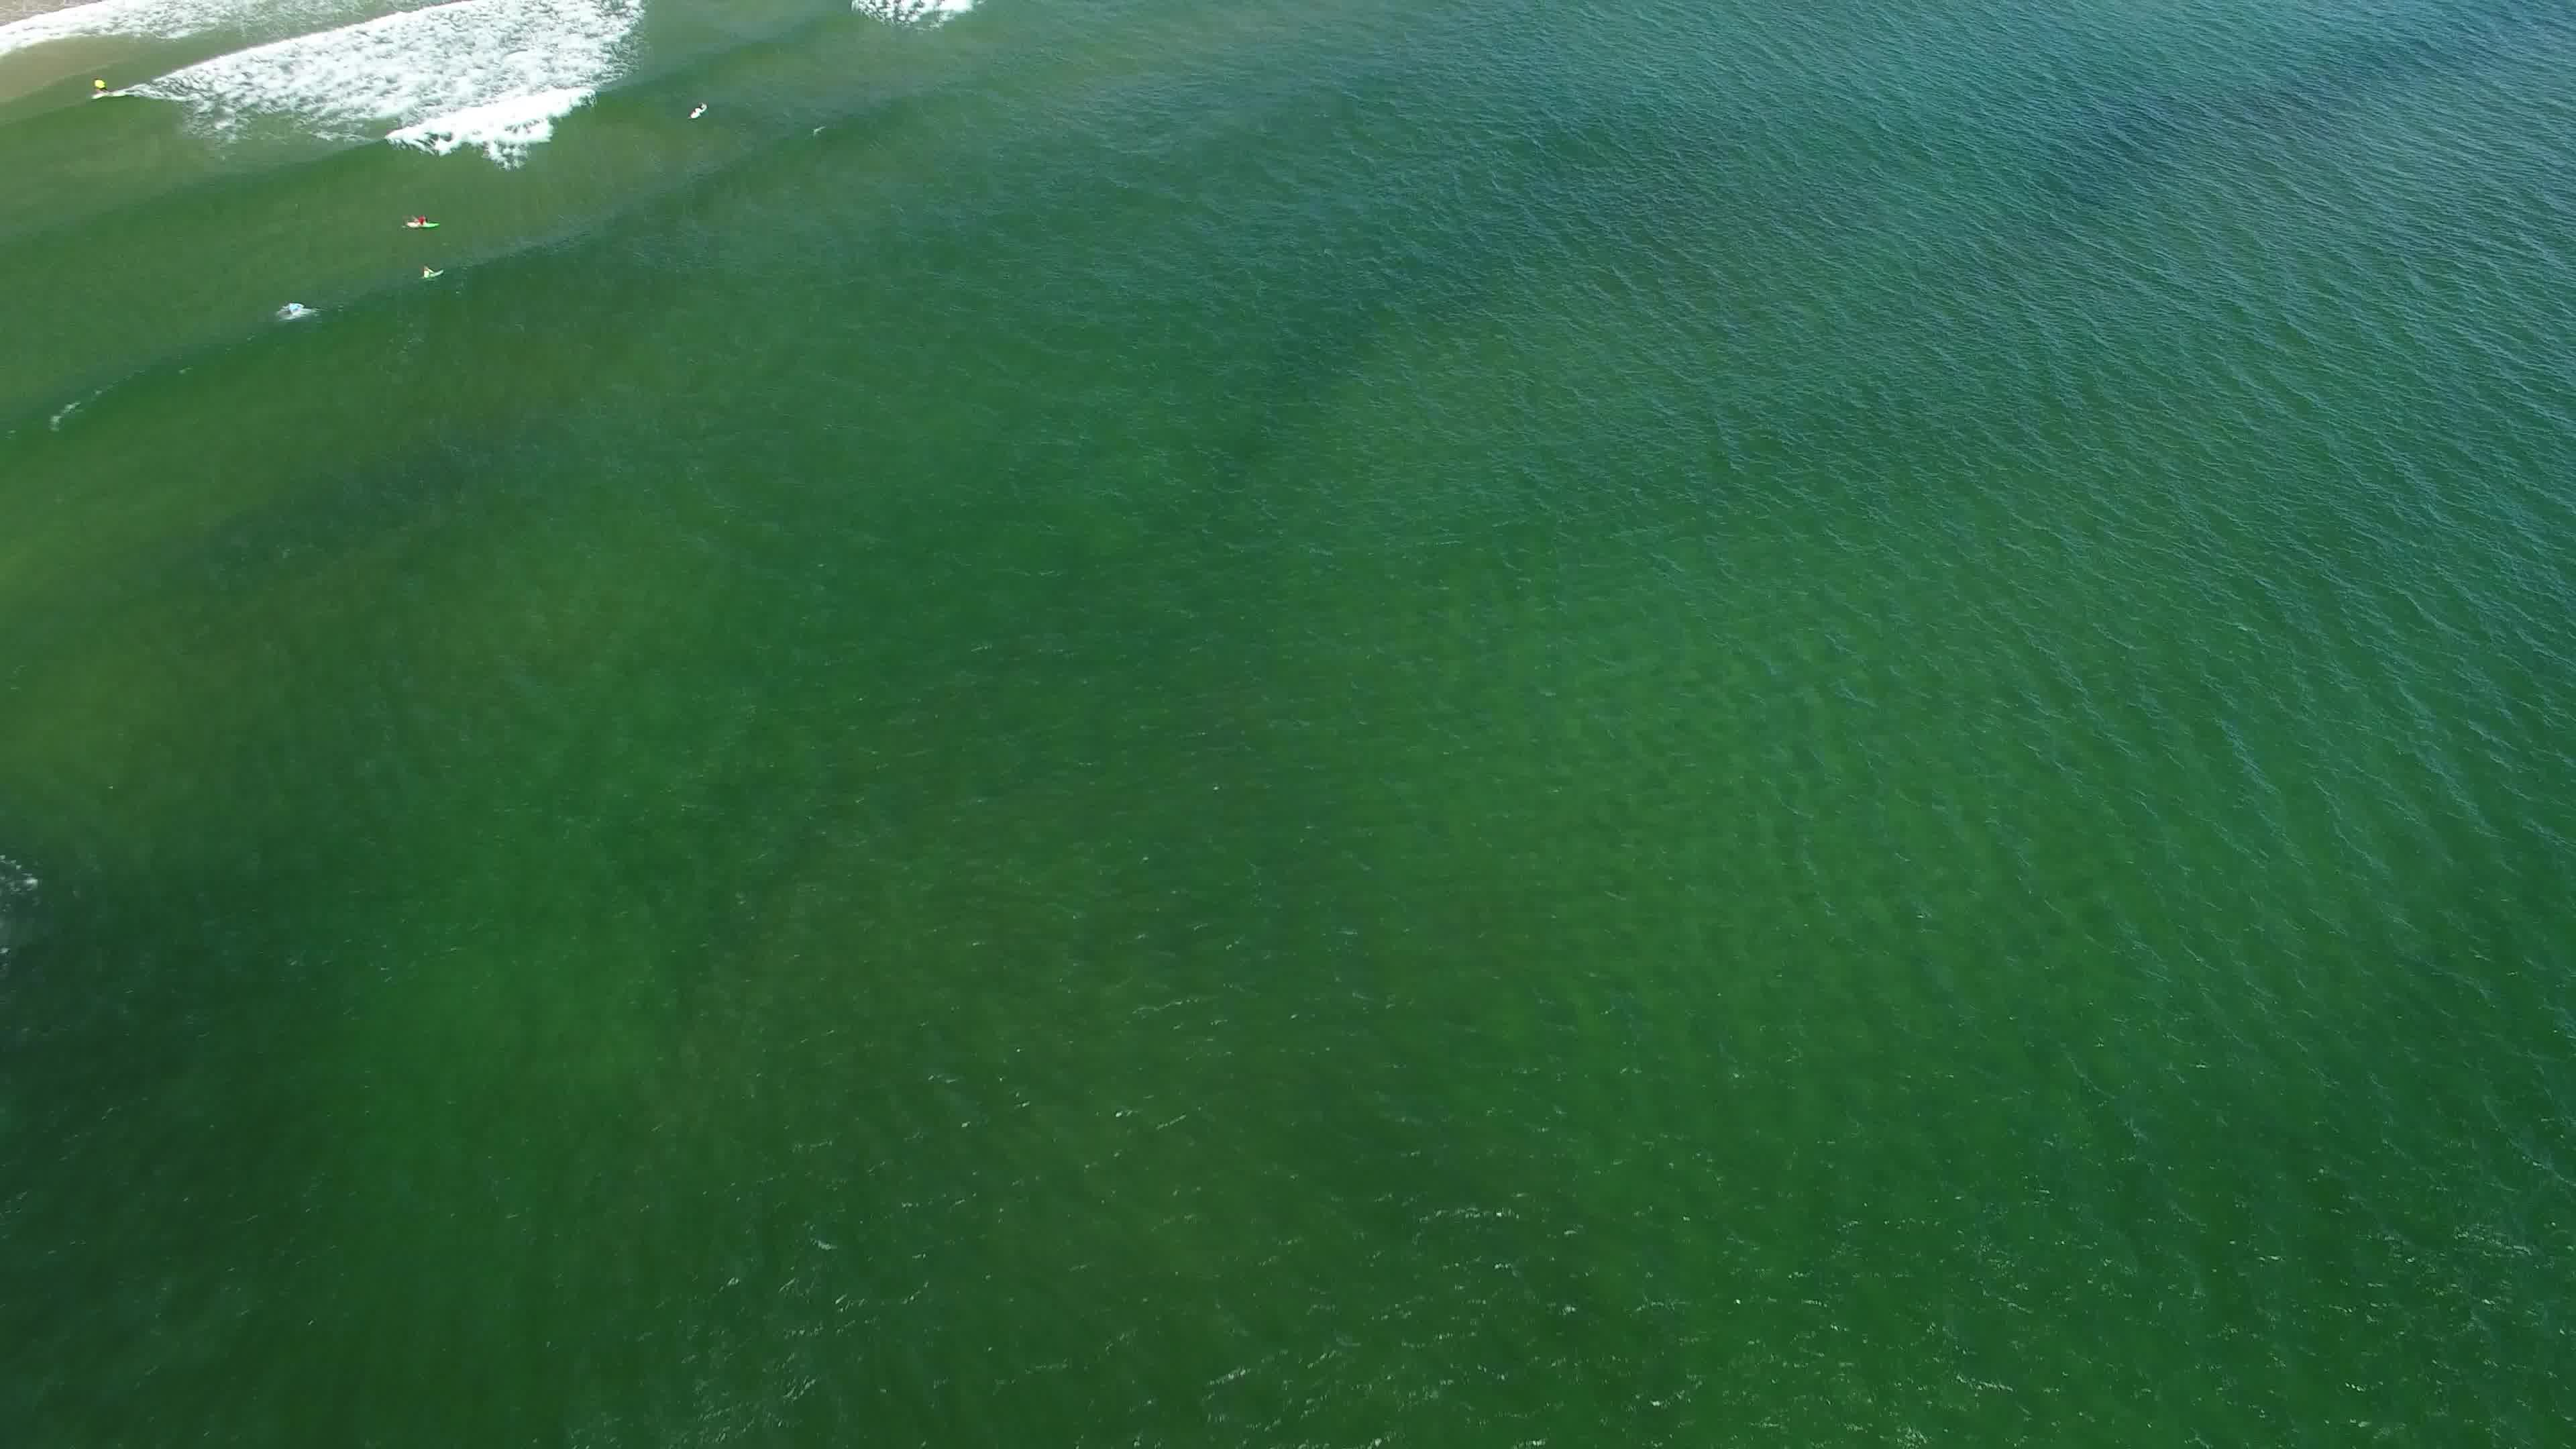surfer: (81, 73, 126, 104), (416, 255, 453, 287), (403, 214, 444, 237), (679, 99, 709, 129)
